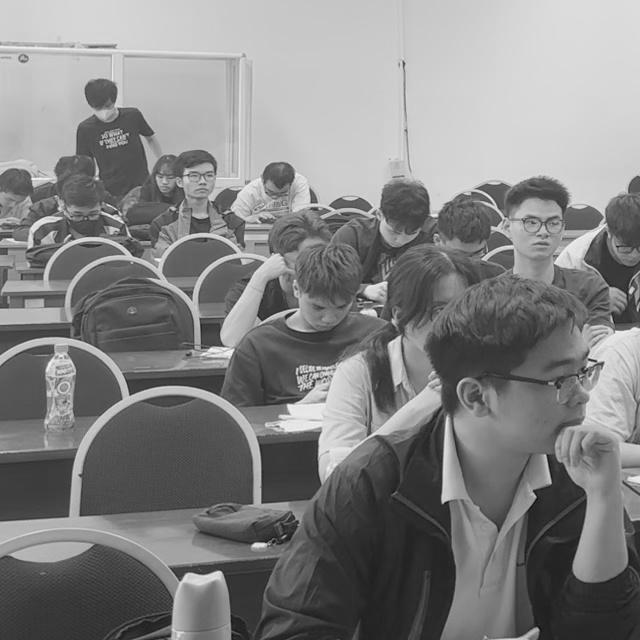Looking away: (296, 286, 361, 333), (65, 197, 102, 237), (608, 226, 640, 270), (379, 218, 420, 250), (150, 165, 180, 197), (86, 102, 124, 124), (0, 189, 27, 211)
Looking forward: (516, 334, 596, 457), (507, 196, 568, 260), (185, 167, 216, 197)
Phone use: (240, 155, 294, 224)
